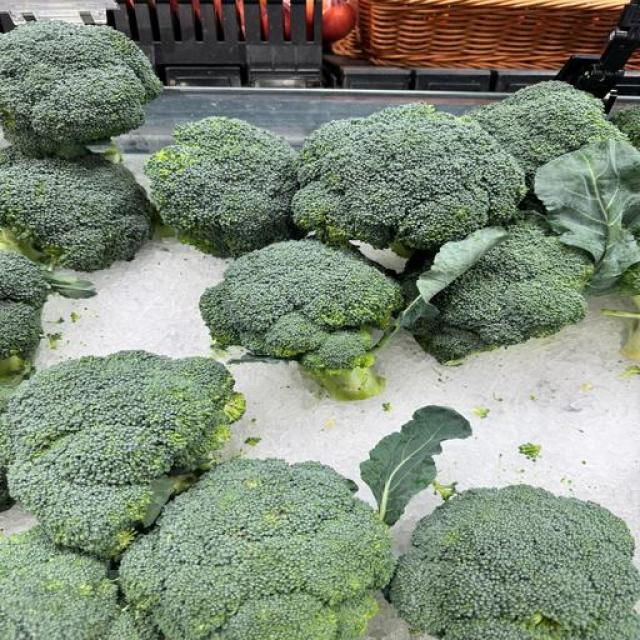organic: (147, 84, 631, 399), (12, 459, 396, 639), (0, 352, 243, 557), (120, 459, 394, 639), (390, 485, 639, 639), (294, 104, 526, 254), (200, 240, 403, 399), (414, 220, 593, 362), (0, 22, 162, 156), (145, 117, 297, 256), (0, 149, 152, 271), (0, 233, 94, 419), (535, 140, 639, 307), (0, 528, 152, 639), (0, 235, 94, 411), (465, 82, 626, 183), (535, 140, 639, 293), (360, 405, 471, 527), (360, 405, 471, 526), (400, 228, 507, 329), (218, 594, 377, 639), (417, 228, 508, 302), (0, 249, 51, 379), (0, 300, 41, 409), (303, 355, 384, 401), (603, 263, 639, 361), (0, 238, 51, 306), (445, 614, 562, 639), (107, 605, 162, 639), (40, 265, 96, 298), (618, 263, 639, 316), (0, 428, 13, 512), (612, 108, 639, 147), (432, 479, 457, 501), (0, 472, 13, 511), (519, 443, 541, 461), (620, 365, 639, 378), (47, 333, 62, 349), (472, 407, 489, 418), (244, 437, 261, 446), (70, 312, 81, 323), (382, 403, 392, 412)
